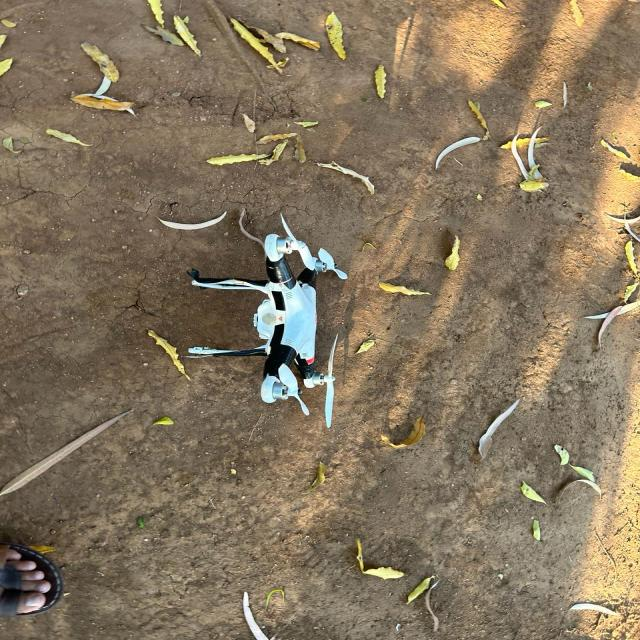drone: (179, 216, 361, 426)
